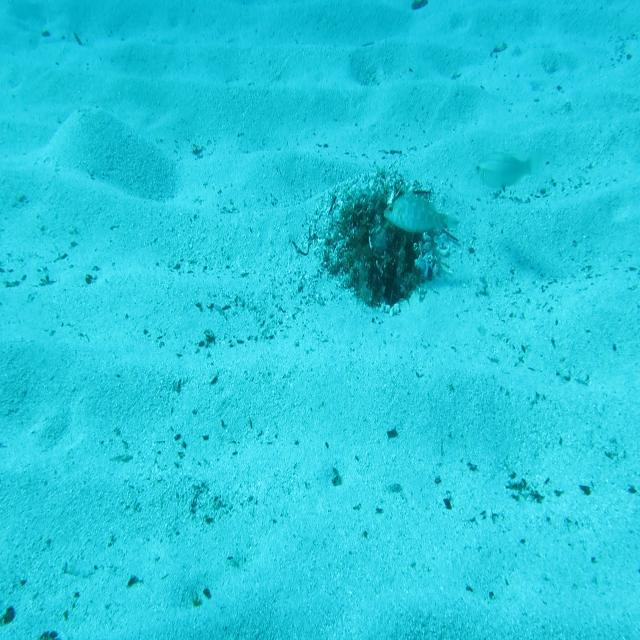BK_SW: (379, 184, 461, 244)
female: (478, 135, 546, 200)
nest: (324, 172, 461, 300)
